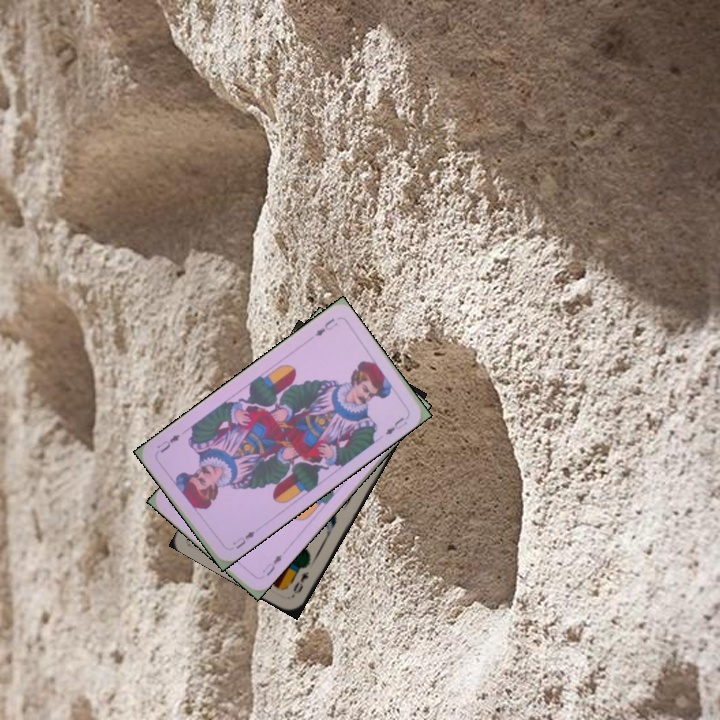EO: (288, 567, 312, 599)
EU: (258, 550, 285, 579), (229, 527, 258, 552), (311, 314, 340, 339)
